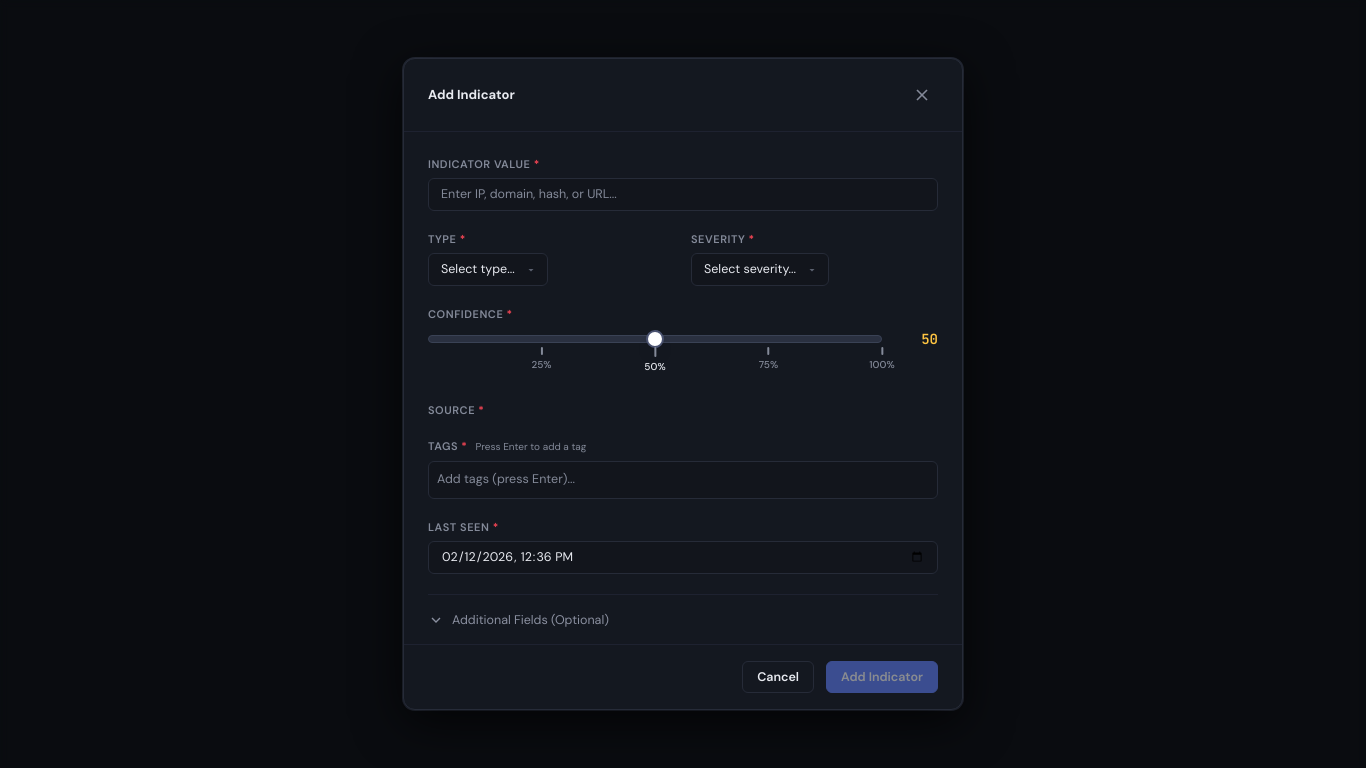
Test case: AddIndicatorModal › auto-detects IP address type and shows detection hint
Type "10.0.0.1" into the field with placeholder "Enter IP, domain, hash, or URL..." at (683, 194), box [428,178,938,211]
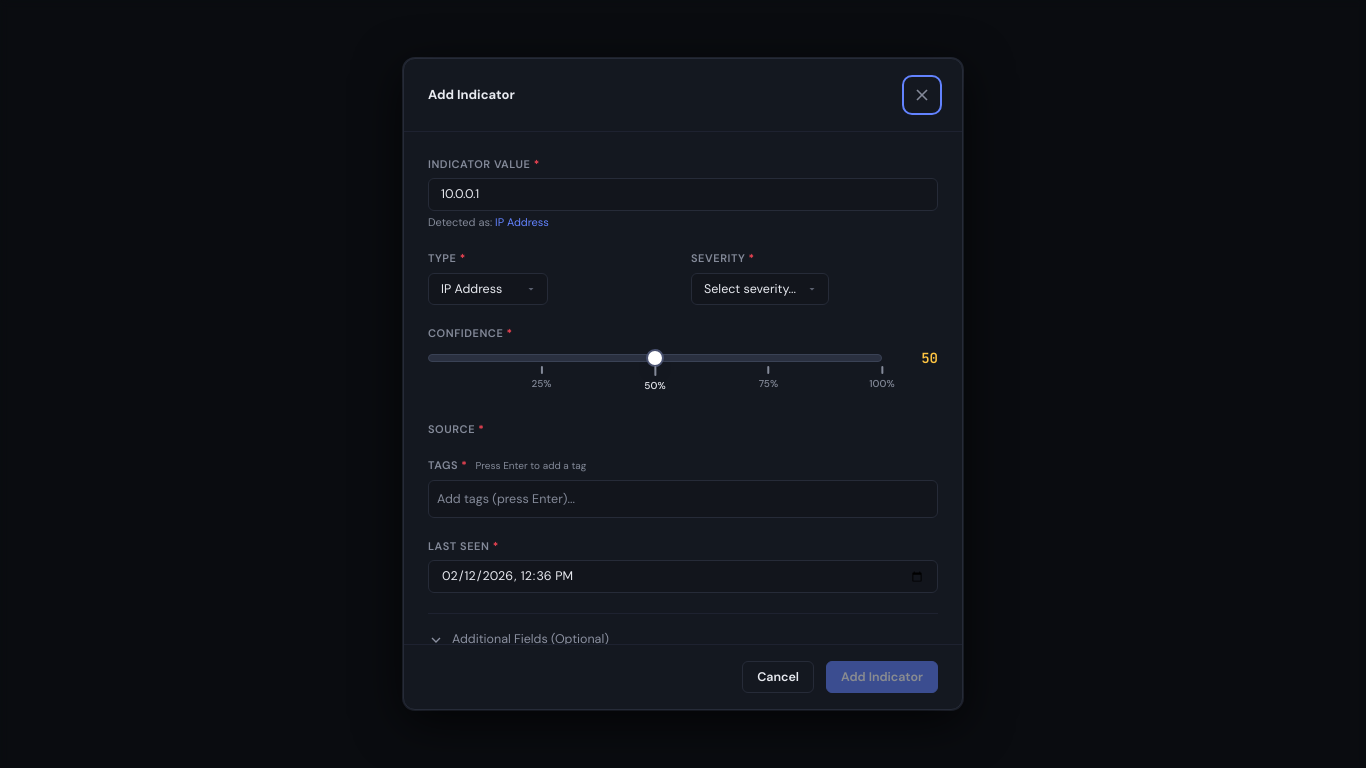
Now the dropdown below "Type" shows "IP Address", box [428,273,548,306]
